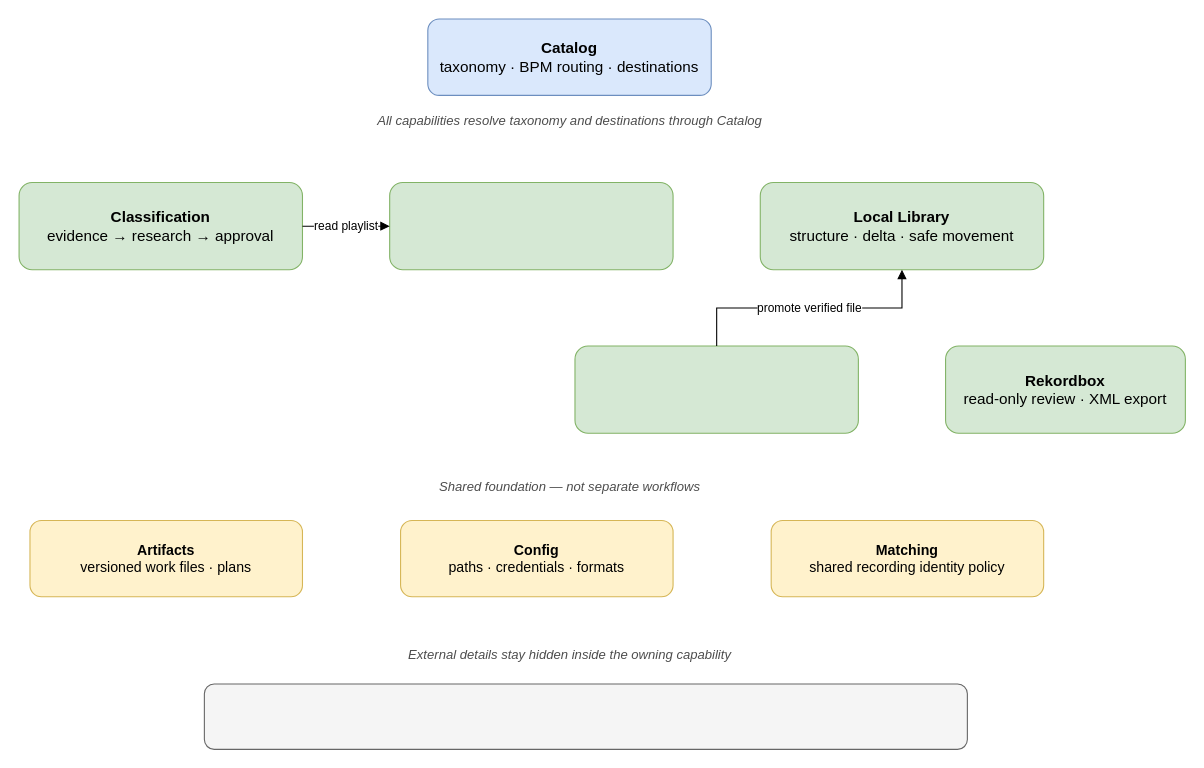
The diagram is 1204 pixels wide and 768 high, and some of its shapes have lost their labels. Here are the shapes that lost their labels. From the top down, the centre of each, then its label:
At [531,225]: "Spotify snapshot · provision · verified sort".
At [716,389]: "Acquisition slskd · intake · audio verification".
At [585,716]: "Spotify API · Discogs · Last.fm · slskd · Essentia · Rekordbox DB".
